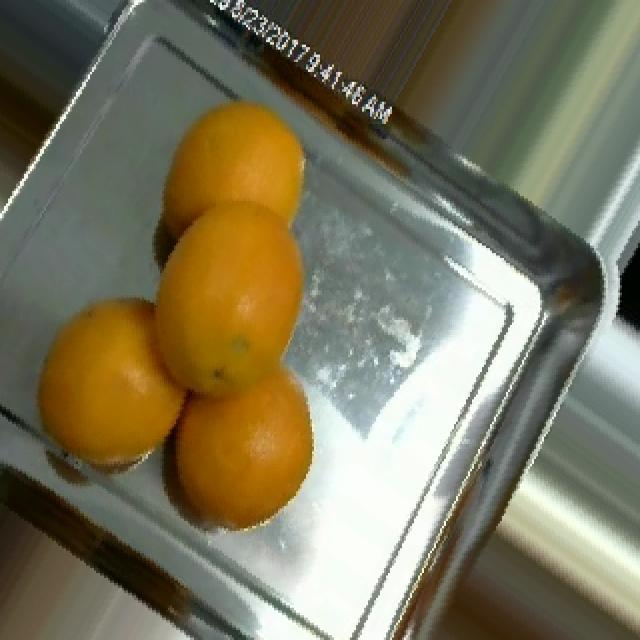Fruit: (140, 370, 336, 560), (604, 216, 640, 355)
